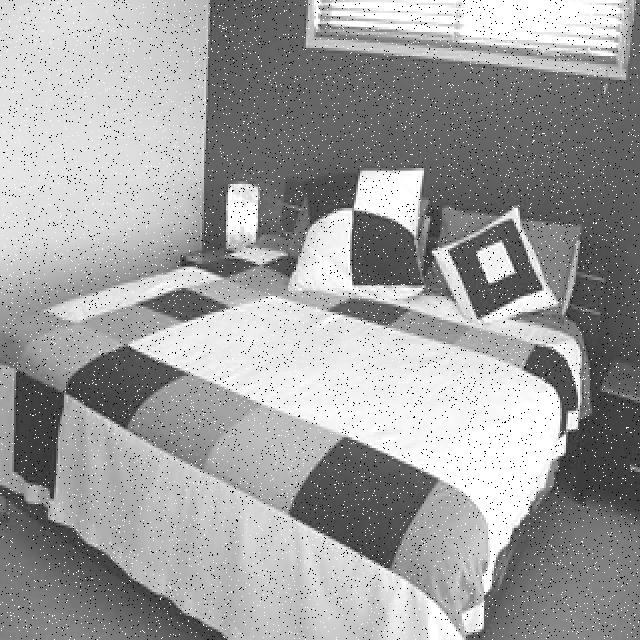bed: (0, 165, 610, 640)
